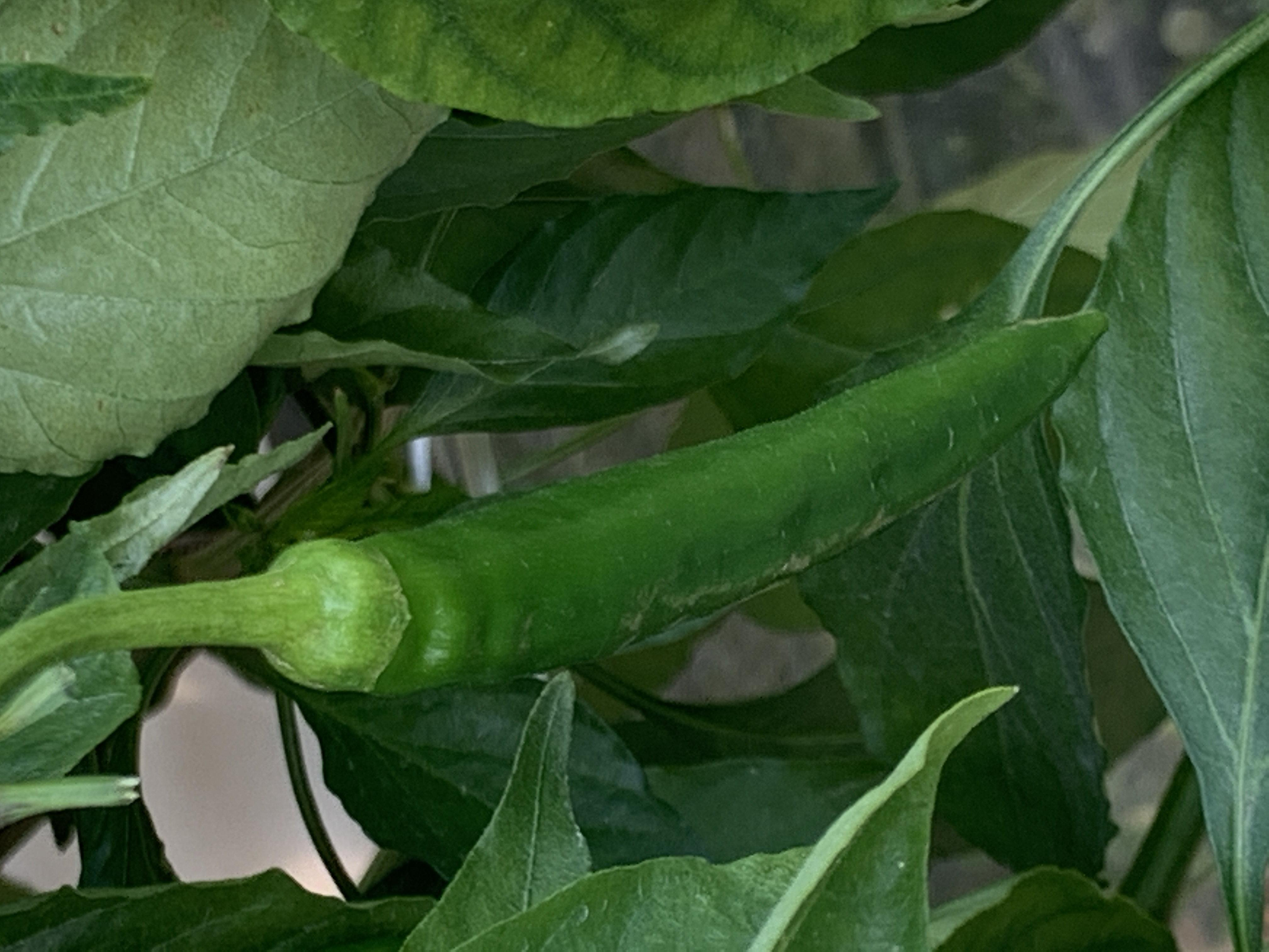Buah Cabai Sehat: (253, 311, 1116, 701)
